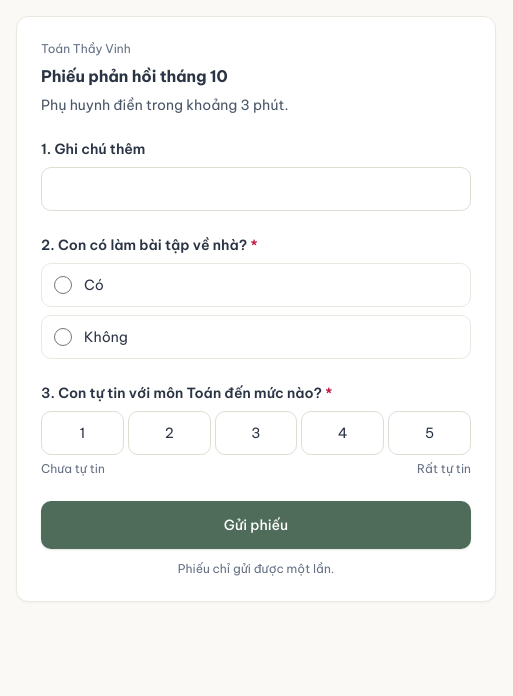
it: PublicCoachingForm required checks › focuses the first scale button when the scale is the first missing answer
Step 1. Click the radio button labelled "Không" → point(63, 337), box left=54, top=328, right=72, bottom=346
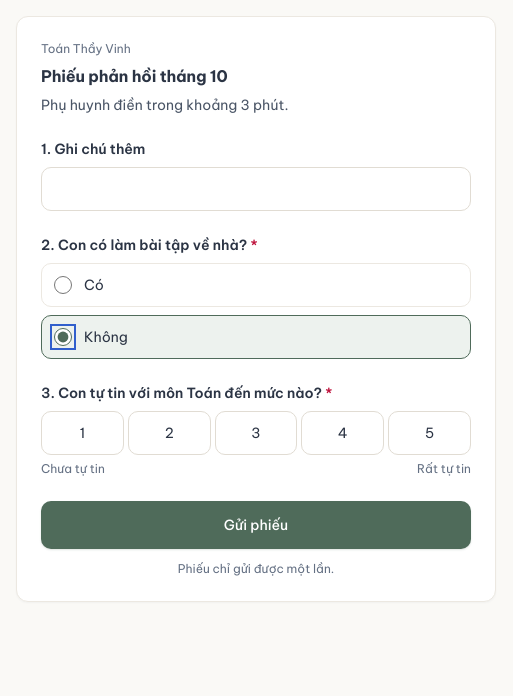
Step 2. Click the button "Gửi phiếu" → point(256, 525), box left=41, top=501, right=471, bottom=549
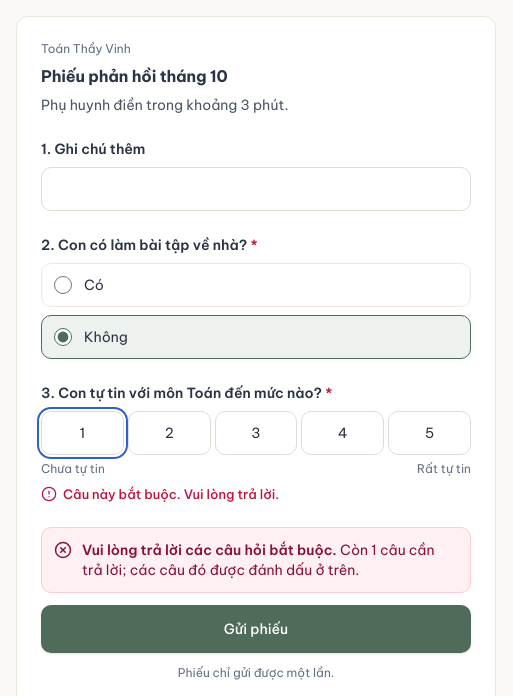
Now the message shows "Còn 1 câu cần trả lời", box left=82, top=541, right=434, bottom=579
